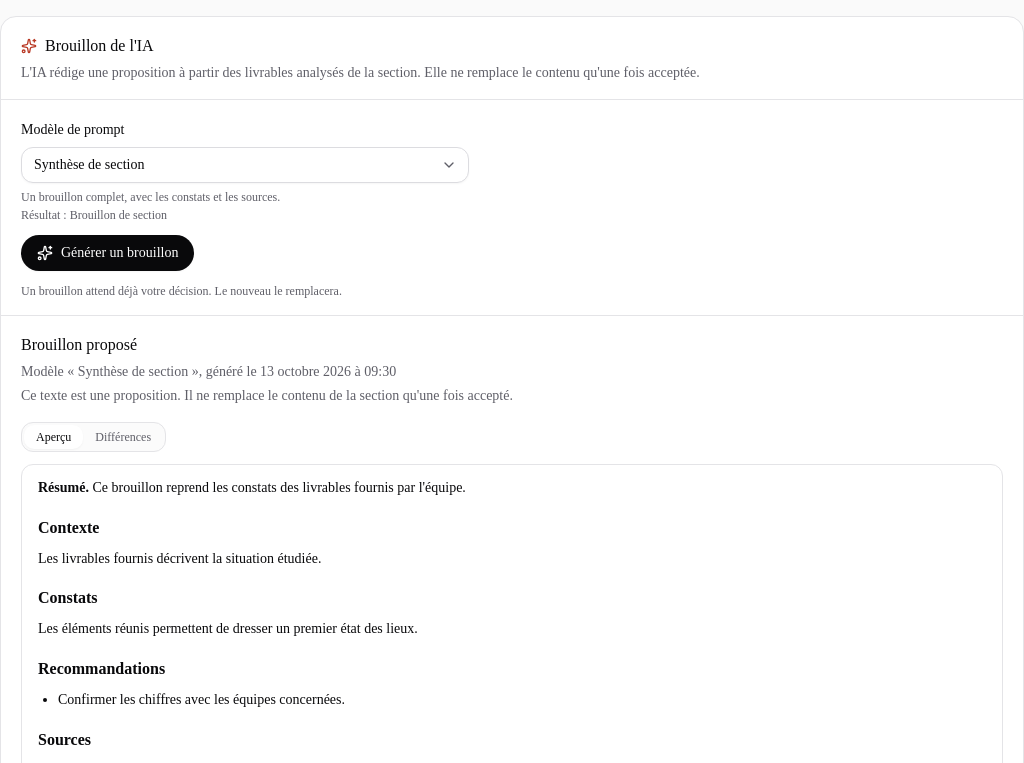
DraftPanel generation › reports an error event and keeps the section as it was
This screenshot has width=1024, height=763.
Click the button "Générer un brouillon" at (108, 253), box x1=21 y1=235 x2=194 y2=271
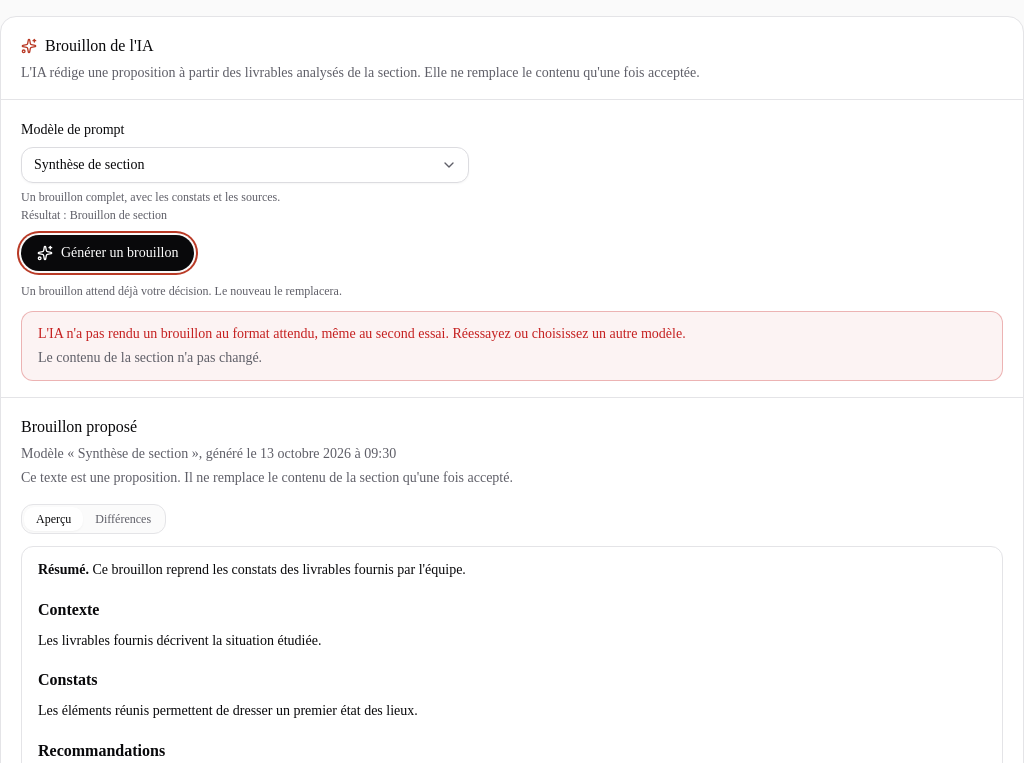
Expected: the heading "Brouillon proposé" is shown, x1=21 y1=418 x2=137 y2=435
Expected: the message shows "L'IA n'a pas rendu un brouillon au format attendu, même au second essai.", x1=38 y1=326 x2=686 y2=341
Expected: the message shows "Le contenu de la section n'a pas changé.", x1=38 y1=350 x2=262 y2=365
